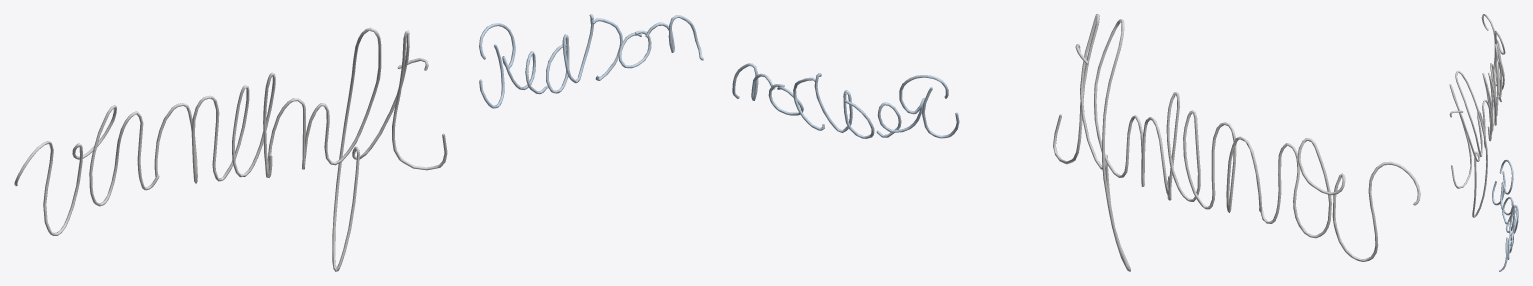
Rendered from Vernunft.glb.
The picture shows the model from 3 angles, left to right: view 1: azimuth 30°, elevation 25°; view 2: azimuth 150°, elevation 25°; view 3: azimuth 270°, elevation 25°; orthographic projection. The views are drawn at different scales.
Parts seen in each view (by area): view 1: Mesh_0; view 2: Mesh_0; view 3: Mesh_0.
Boxes of the visible parts, left/top/right/bottom form: Mesh_0: left=14, top=14, right=703, bottom=271; Mesh_0: left=732, top=14, right=1420, bottom=271; Mesh_0: left=1449, top=14, right=1518, bottom=271.
Size of the model in its own units: 2.63 by 0.8903 by 0.3642.
